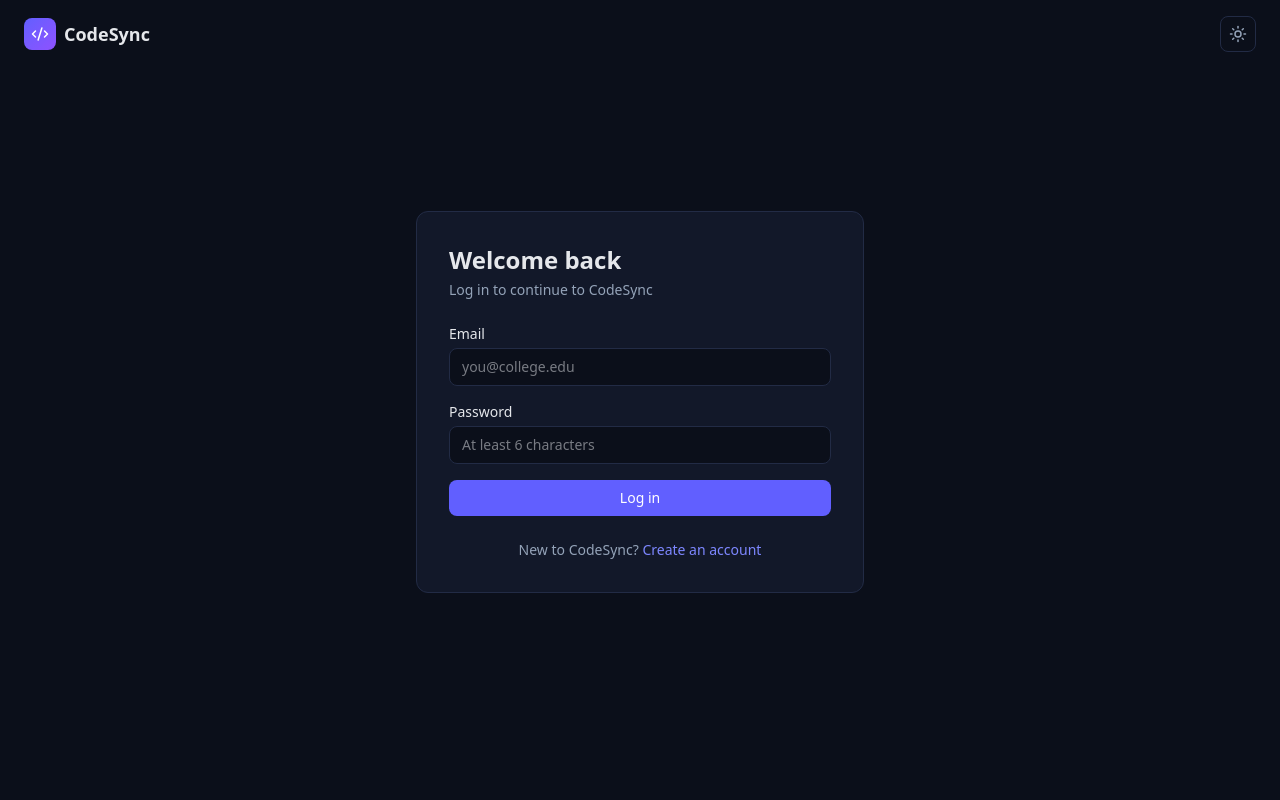
Test: Login page › shows the server's message and stays on the page when login fails
The width and height of the screenshot is (1280, 800).
Type "asha@college.edu" into the field labelled "Email" at (640, 367), box [449,348,831,386]
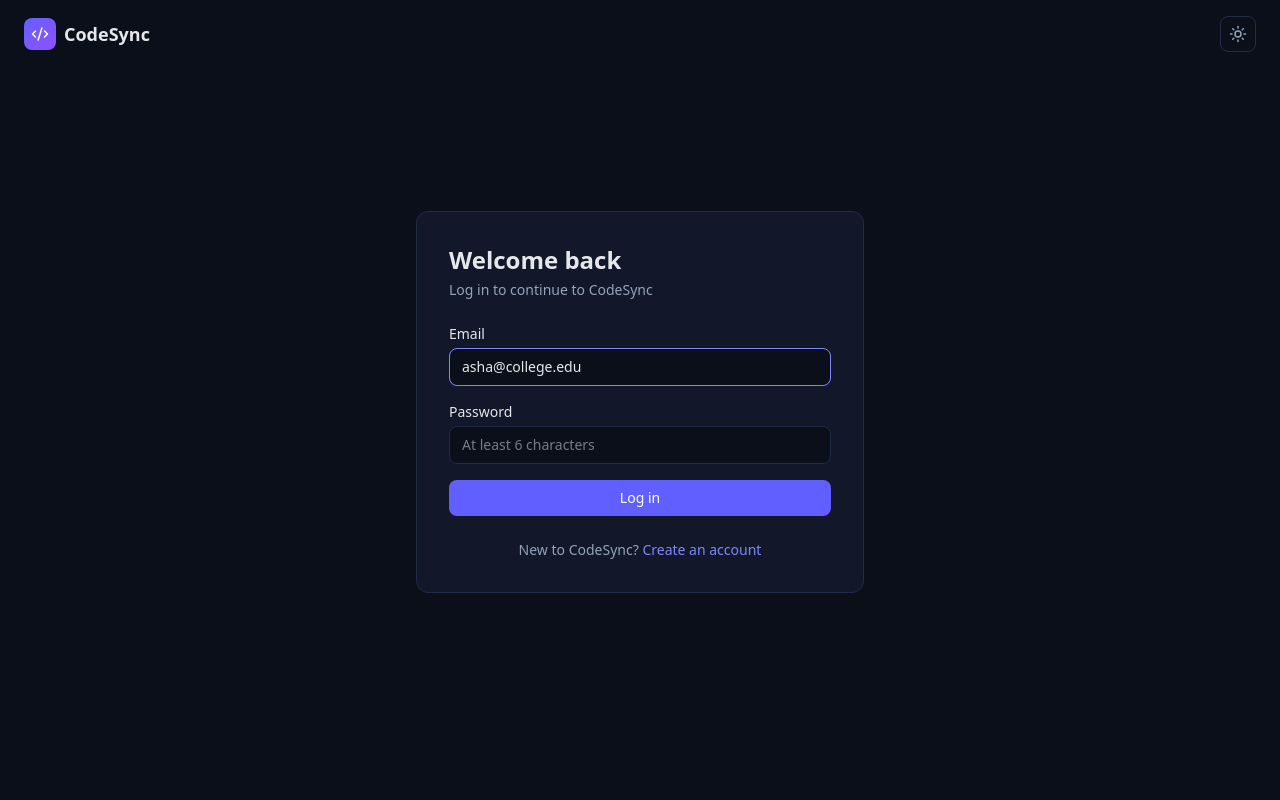
Type "wrong-password" into the password field labelled "Password" at (640, 445), box [449,426,831,464]
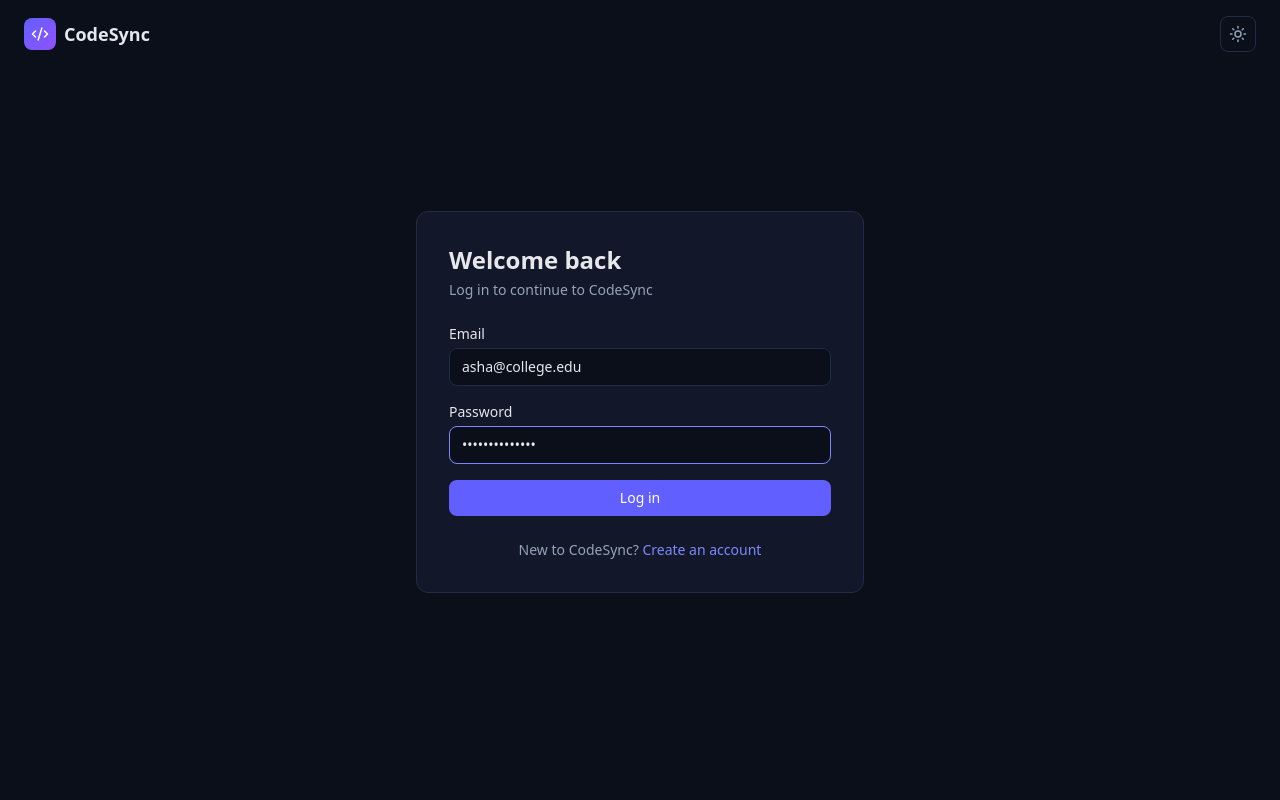
Click the button "Log in" at (640, 498), box [449,480,831,516]
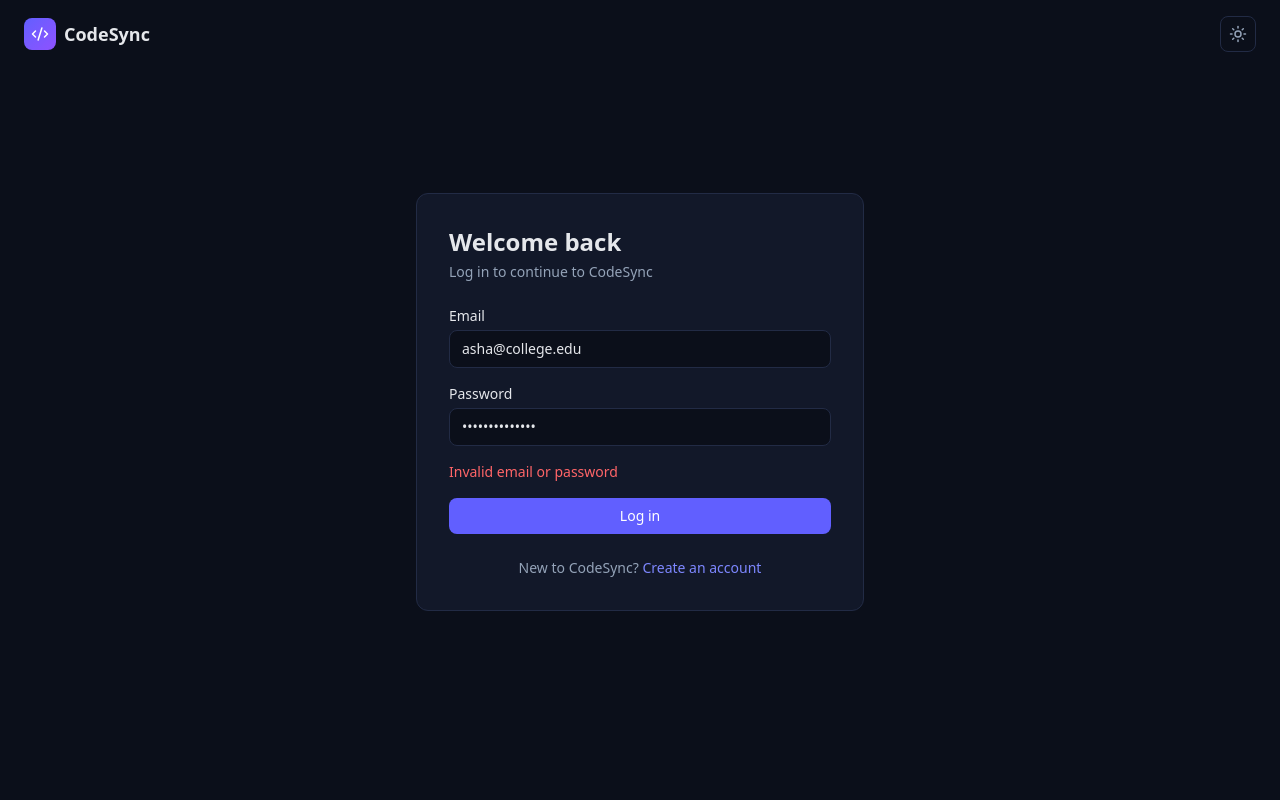
Now the text "Invalid email or password" is shown, box [449,462,618,481]
